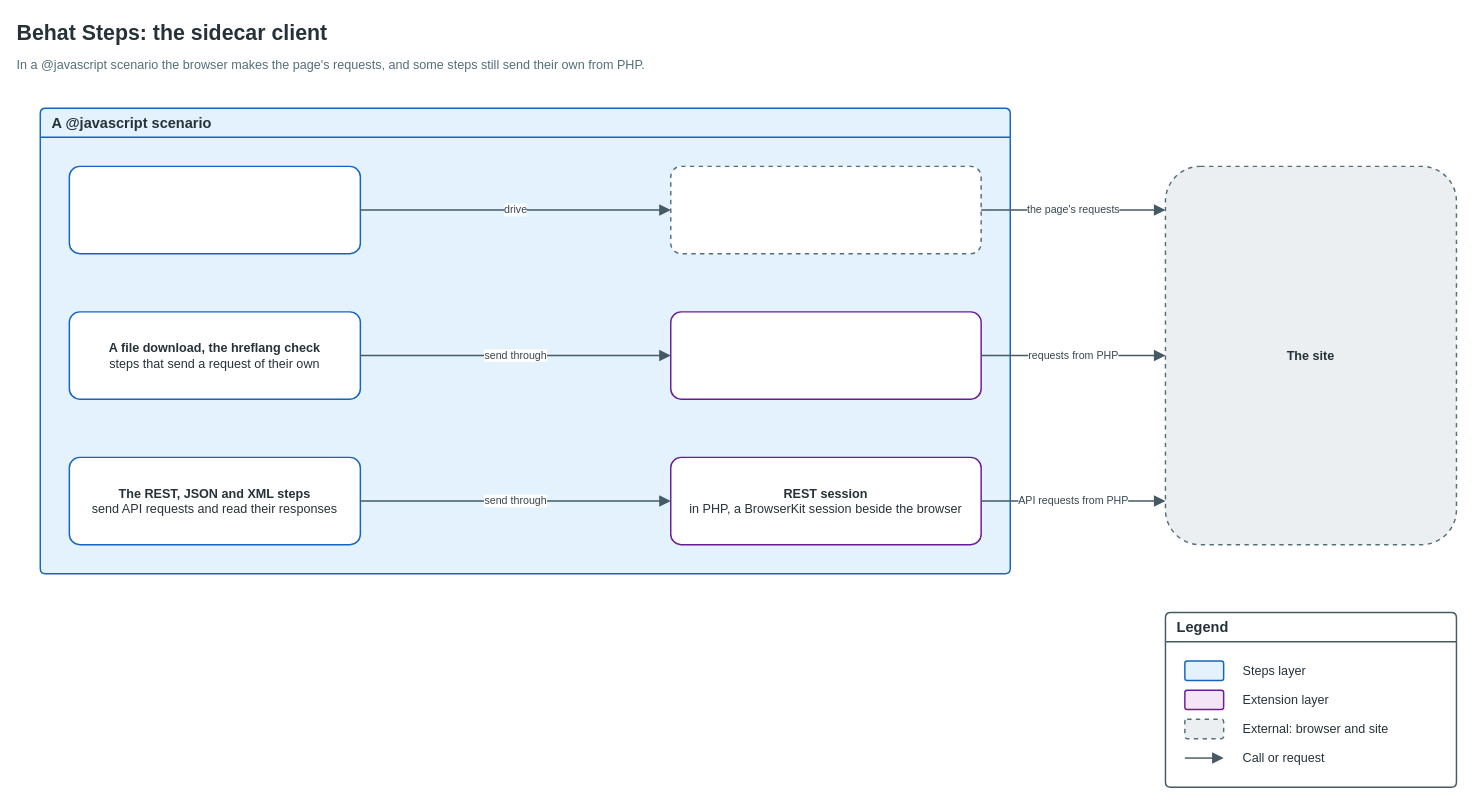
The diagram is 1473 pixels wide and 804 high, and some of its shapes have lost their labels. Here are the shapes that lost their labels. From the top down, the centre of each, then its label:
At point 214,209: "Visits, clicks, AJAX the steps that work through the page".
At point 825,209: "The browser configured by its capabilities, such as acceptInsecureCerts".
At point 825,355: "Detached client in PHP, the sidecar: configured by http_client_parameters".
